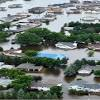smoke: (63, 52, 78, 55)
